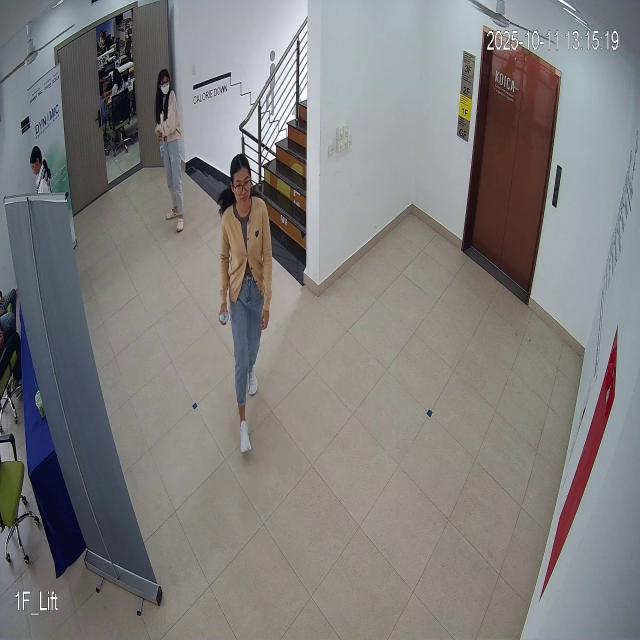face: (224, 144, 256, 223)
